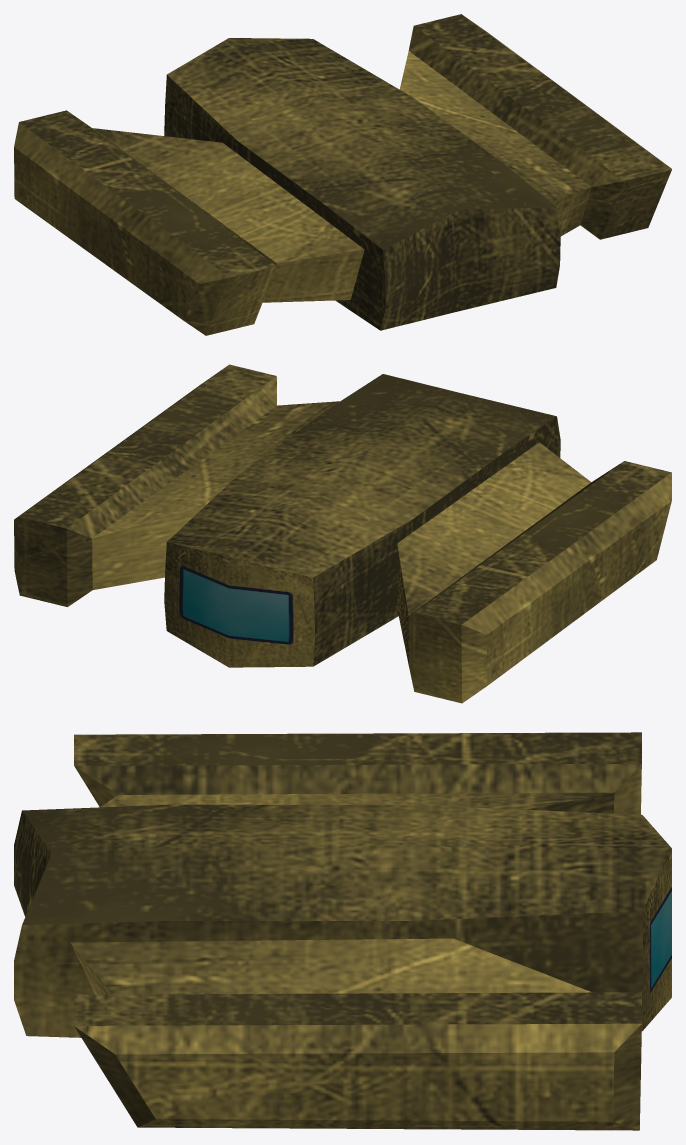
File: ship.obj
The picture shows the model from 3 angles, top to bottom: view 1: azimuth 30°, elevation 25°; view 2: azimuth 150°, elevation 25°; view 3: azimuth 270°, elevation 25°; orthographic projection. The views are drawn at different scales.
Parts seen in each view (by area): view 1: ship; view 2: ship; view 3: ship.
Boxes of the visible parts, x1=… form: ship: x1=14, y1=14, x2=671, y2=335; ship: x1=14, y1=364, x2=671, y2=703; ship: x1=14, y1=732, x2=671, y2=1130.
Bounding box in the file's own units: 5.9 × 1.32 × 5.27.
